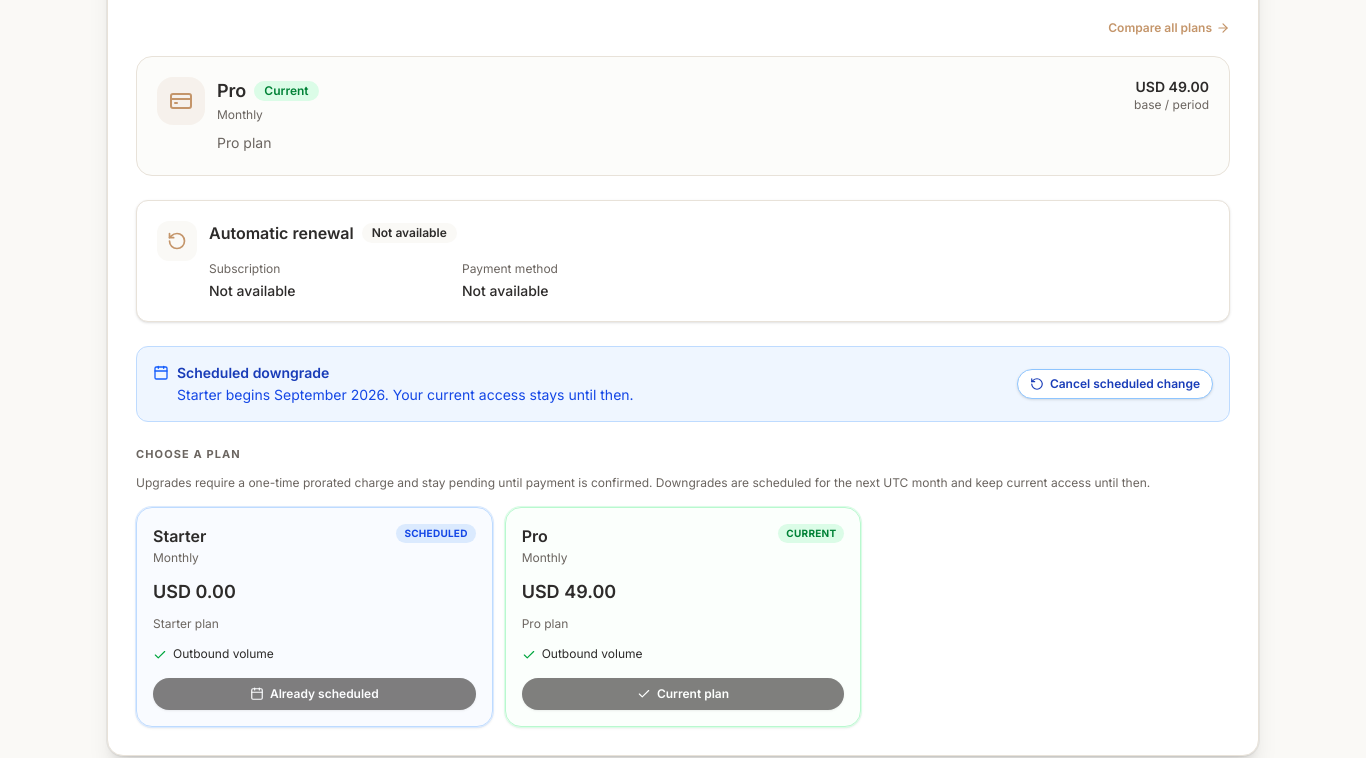
Scenario: Billing — plan change › renders cancel control for a paid scheduled downgrade and cancels after confirm
This screenshot has width=1366, height=758.
(page scrolled)
Check: the text "Scheduled downgrade" is shown, box left=177, top=364, right=329, bottom=381
Check: the text "Starter begins" is shown, box left=177, top=385, right=634, bottom=405
Click the button with aria-label "Cancel scheduled change to Starter": [1115, 384] box left=1017, top=369, right=1213, bottom=399
(page scrolled)
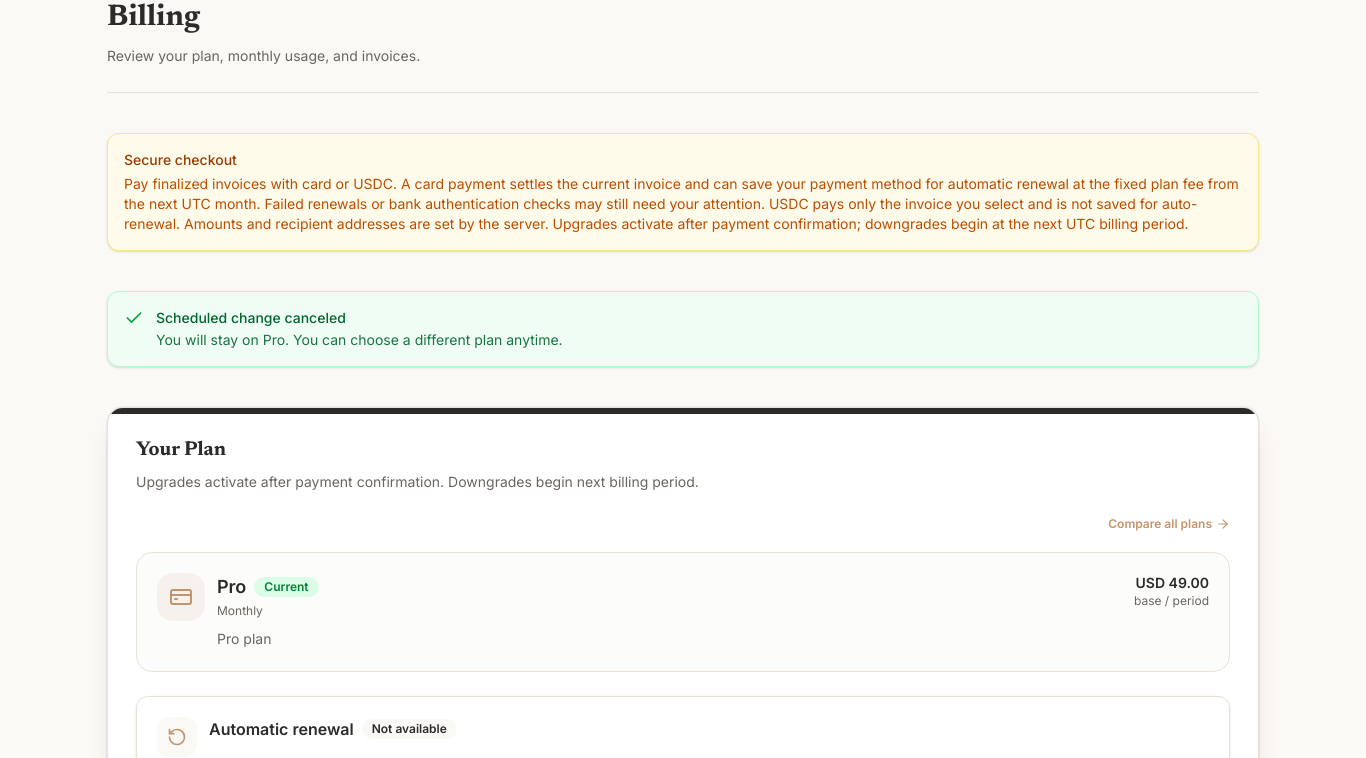
Check: the text "Scheduled change canceled" is shown, box left=156, top=309, right=346, bottom=326
Check: the text "You will stay on Pro" is shown, box left=156, top=331, right=563, bottom=348
